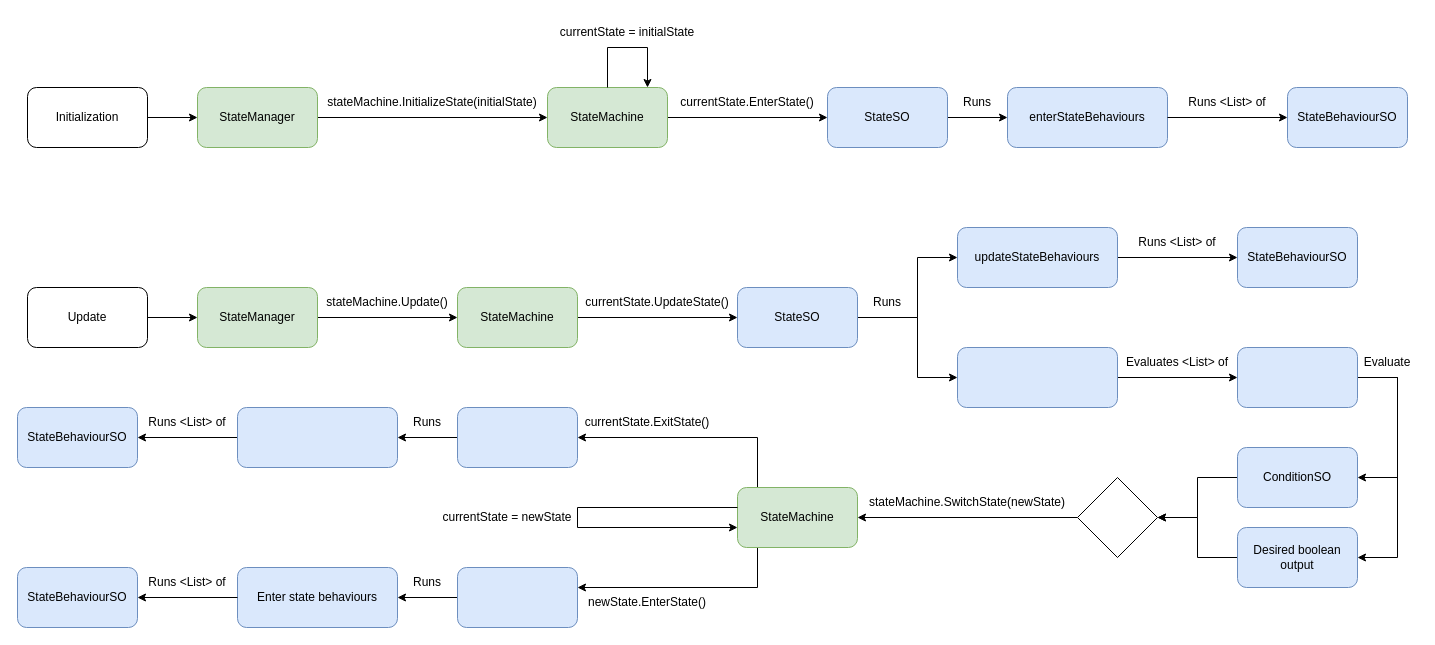
Some shapes in this 1435 by 645 pixel diagram are drawn without their labels. The shapes that lost their labels are listed below. From the top down, each one's centre as x and y in pixels, then its label:
At pixel 1037 377: "Transitions".
At pixel 1297 377: "TransitionSO".
At pixel 317 437: "Exit state behaviours".
At pixel 517 437: "Current StateSO".
At pixel 1117 517: "Equals".
At pixel 517 597: "New StateSO".
